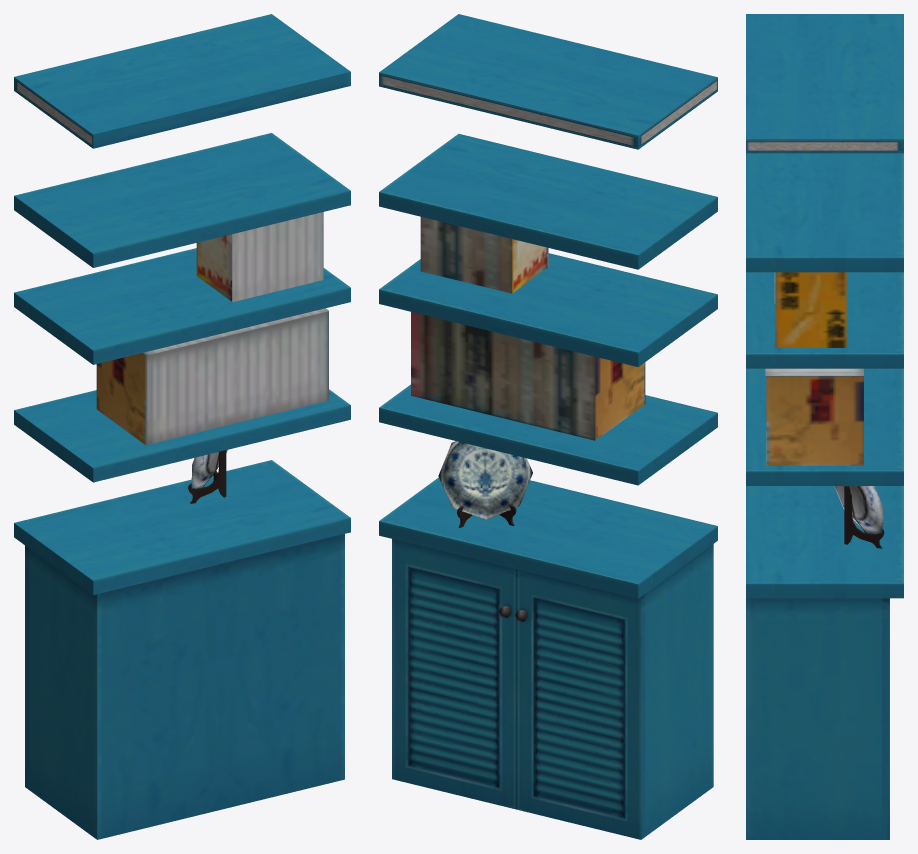
File: furni_0200057.FBX
The picture shows the model from 3 angles, left to right: view 1: azimuth 30°, elevation 25°; view 2: azimuth 150°, elevation 25°; view 3: azimuth 270°, elevation 25°; orthographic projection.
Visible parts, largest first — view 1: furni_0200057; view 2: furni_0200057; view 3: furni_0200057.
Part boxes in pixels (<box>): furni_0200057: <box>14,14,350,839</box>; furni_0200057: <box>379,14,717,839</box>; furni_0200057: <box>746,14,903,839</box>.
Size of the model in its own units: 83.3 by 218 by 44.3.
